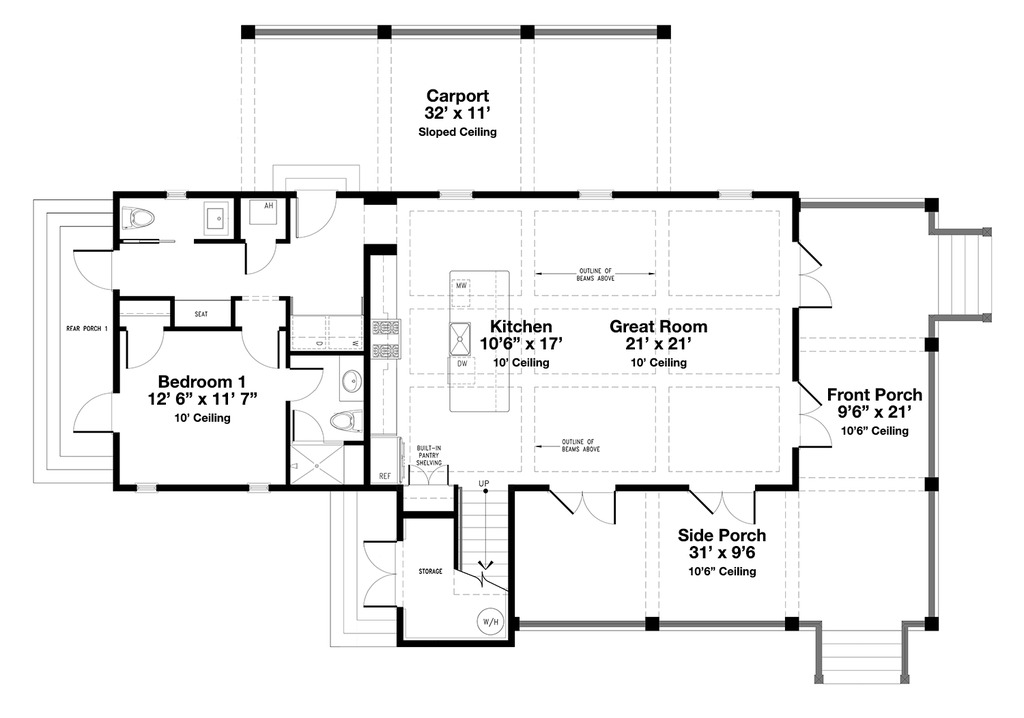door: (361, 535, 402, 610), (546, 485, 618, 527), (795, 379, 833, 455), (794, 239, 832, 309), (693, 485, 761, 524), (70, 390, 115, 438), (293, 192, 339, 238), (235, 327, 280, 373), (70, 243, 112, 288), (122, 327, 165, 367), (239, 234, 276, 279), (290, 405, 327, 445), (288, 365, 324, 402)
kitchen_bar: (446, 267, 513, 413)
large_sink: (120, 202, 157, 234), (328, 408, 365, 438)
small_sink: (198, 199, 231, 237), (340, 354, 364, 405)
stairs: (449, 477, 511, 590), (810, 623, 909, 686), (930, 223, 995, 318)
windows: (576, 189, 617, 203), (434, 189, 473, 202), (715, 190, 755, 201)
